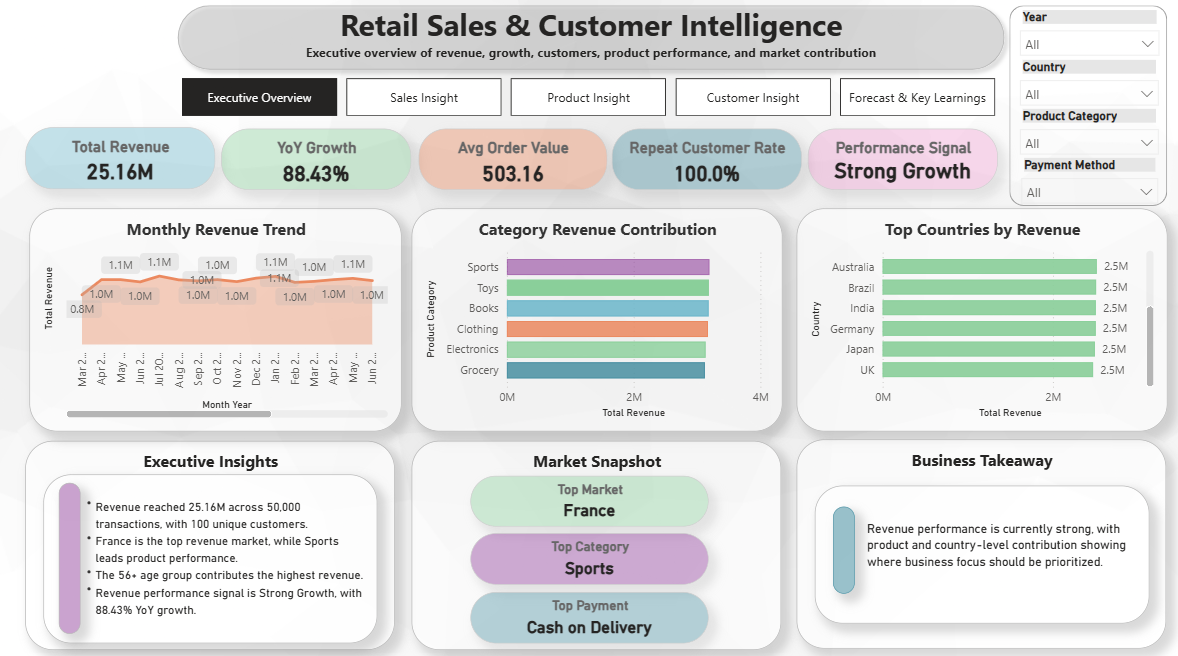

This screenshot's page, from the dashboard's own definition file:
{"tool":"powerbi","page":{"name":"Executive Overview","canvas":[1280,720],"ordinal":0},"visuals":[{"type":"shape","title":"Executive Insights","box":[27.7,480,400,226.2],"z":0},{"type":"shape","title":"Executive Revenue Summary","box":[47.5,516.2,361.2,182.5],"z":1000},{"type":"shape","box":[1093.1,9.2,170.8,217],"z":2000},{"type":"shape","box":[183.7,0,912.7,87.6],"z":3000},{"type":"textbox","box":[183.7,2.8,912.7,74.9],"z":4000},{"type":"pageNavigator","box":[197.1,88.6,882.9,41.4],"z":5000},{"type":"card","title":"Total Revenue","fields":{"Values":["Measure Table.Total Revenue"]},"box":[27.1,141.4,205.7,67.1],"z":6000},{"type":"lineChart","title":"Monthly Revenue Trend","fields":{"Category":["Dim Date.Month Year"],"Y":["Measure Table.Total Revenue"]},"box":[31.4,228.6,402.9,241.4],"z":7000},{"type":"clusteredBarChart","title":"Category Revenue Contribution","fields":{"Category":["Dim Product.Product Category"],"Y":["Measure Table.Total Revenue"]},"box":[446.2,228.5,401.5,241.5],"z":8000},{"type":"clusteredBarChart","title":"Top Countries by Revenue","fields":{"Category":["Dim Country.Country"],"Y":["Measure Table.Total Revenue"]},"box":[862.3,228.5,401.5,241.5],"z":9000},{"type":"card","title":"YoY Growth","fields":{"Values":["Measure Table.Revenue YoY Growth %"]},"box":[240,142.5,205.8,66.7],"z":10000},{"type":"card","title":"Avg Order Value","fields":{"Values":["Measure Table.Average Order Value"]},"box":[452.5,141.7,204.2,66.7],"z":11000},{"type":"card","title":"Repeat Customer Rate","fields":{"Values":["Measure Table.Repeat Customer Rate %"]},"box":[662.5,141.7,205.8,66.7],"z":12000},{"type":"card","title":"Performance Signal","fields":{"Values":["Measure Table.Revenue Performance Signal"]},"box":[874.2,141.7,205.8,66.7],"z":13000},{"type":"slicer","fields":{"Values":["Dim Country.Country"]},"box":[1094.2,65,170,56.7],"z":14000},{"type":"slicer","fields":{"Values":["Dim Date.Year"]},"box":[1093.3,9.2,170.8,61.7],"z":15000},{"type":"slicer","fields":{"Values":["Dim Product.Product Category"]},"box":[1094.2,118,170,55.8],"z":16000},{"type":"slicer","fields":{"Values":["Dim Payment Method.Payment Method"]},"box":[1096.2,171.5,167.7,56.9],"z":17000},{"type":"shape","title":"Market Snapshot","box":[445.5,480,400,226.4],"z":18000},{"type":"shape","title":"Business Takeaway","box":[862.7,479.1,400,226.4],"z":19000},{"type":"card","title":"Top Market","fields":{"Values":["Measure Table.Top Country by Revenue"]},"box":[509,518.2,258.2,55],"z":20000},{"type":"card","title":"Top Category","fields":{"Values":["Measure Table.Top Category by Revenue"]},"box":[509,580,258.2,55.5],"z":21000},{"type":"card","title":"Top Payment","fields":{"Values":["Measure Table.Top Payment Method by Revenue"]},"box":[509.1,643.6,258.2,55.5],"z":22000},{"type":"shape","title":"Market Leadership Insight","box":[881.8,528.2,361.8,149.1],"z":23000},{"type":"textbox","box":[932.9,560,291.4,100],"z":24000},{"type":"shape","title":"Market Leadership Insight","box":[901.1,552.2,23.3,94.4],"z":25000},{"type":"textbox","box":[77.7,518.5,322.1,171],"z":26000},{"type":"shape","title":"Market Leadership Insight","box":[63.8,525,23.8,163.8],"z":27000}]}

Visuals, with their boxes in screenshot pixels (x1, y1, x2, y2), scaled from the page's 1280x720 canvas onto the 1178x656 screenshot:
"Executive Insights" shape: [left=25, top=437, right=394, bottom=643]
"Executive Revenue Summary" shape: [left=44, top=470, right=376, bottom=637]
shape: [left=1006, top=8, right=1163, bottom=206]
shape: [left=169, top=0, right=1009, bottom=80]
textbox: [left=169, top=3, right=1009, bottom=71]
pageNavigator: [left=181, top=81, right=994, bottom=118]
"Total Revenue" card: [left=25, top=129, right=214, bottom=190]
"Monthly Revenue Trend" lineChart: [left=29, top=208, right=400, bottom=428]
"Category Revenue Contribution" clusteredBarChart: [left=411, top=208, right=780, bottom=428]
"Top Countries by Revenue" clusteredBarChart: [left=794, top=208, right=1163, bottom=428]
"YoY Growth" card: [left=221, top=130, right=410, bottom=191]
"Avg Order Value" card: [left=416, top=129, right=604, bottom=190]
"Repeat Customer Rate" card: [left=610, top=129, right=799, bottom=190]
"Performance Signal" card: [left=805, top=129, right=994, bottom=190]
slicer - Dim Country.Country: [left=1007, top=59, right=1163, bottom=111]
slicer - Dim Date.Year: [left=1006, top=8, right=1163, bottom=65]
slicer - Dim Product.Product Category: [left=1007, top=108, right=1163, bottom=158]
slicer - Dim Payment Method.Payment Method: [left=1009, top=156, right=1163, bottom=208]
"Market Snapshot" shape: [left=410, top=437, right=778, bottom=644]
"Business Takeaway" shape: [left=794, top=437, right=1162, bottom=643]
"Top Market" card: [left=468, top=472, right=706, bottom=522]
"Top Category" card: [left=468, top=528, right=706, bottom=579]
"Top Payment" card: [left=469, top=586, right=706, bottom=637]
"Market Leadership Insight" shape: [left=812, top=481, right=1145, bottom=617]
textbox: [left=859, top=510, right=1127, bottom=601]
"Market Leadership Insight" shape: [left=829, top=503, right=851, bottom=589]
textbox: [left=72, top=472, right=368, bottom=628]
"Market Leadership Insight" shape: [left=59, top=478, right=81, bottom=628]
